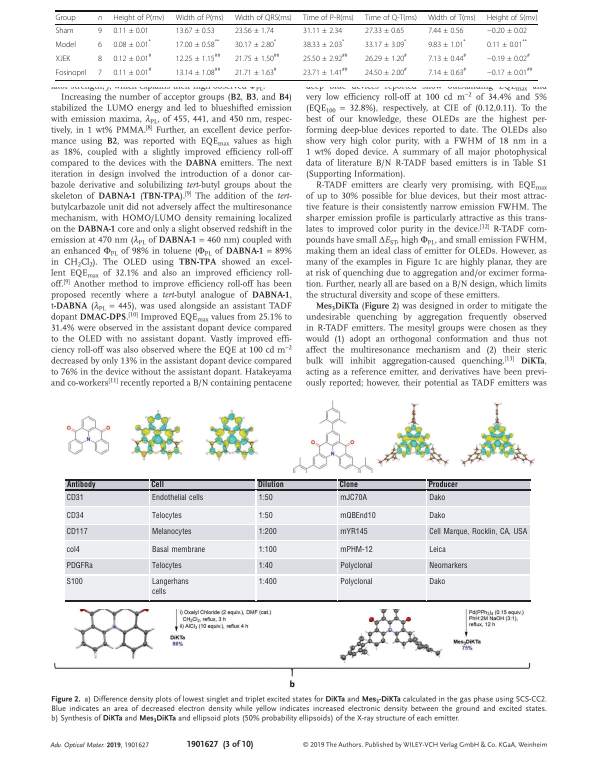borderless: (65, 478, 531, 600), (55, 9, 538, 80)
cell: (428, 527, 528, 537), (150, 577, 189, 597), (234, 13, 293, 22), (486, 66, 533, 77), (175, 52, 221, 63), (234, 52, 280, 63), (302, 52, 348, 63), (175, 66, 221, 77), (302, 66, 348, 77), (150, 545, 206, 554), (175, 38, 220, 49), (486, 52, 531, 63), (150, 493, 204, 502), (364, 13, 418, 22), (364, 52, 408, 63), (234, 66, 278, 77), (364, 66, 408, 77), (112, 13, 165, 22), (302, 13, 355, 22), (234, 38, 277, 49), (302, 38, 345, 49), (364, 38, 407, 49), (486, 13, 538, 22), (486, 38, 528, 49), (427, 13, 477, 22), (175, 13, 224, 22), (112, 38, 152, 49), (427, 38, 467, 49), (112, 52, 152, 63), (427, 52, 467, 63), (112, 66, 152, 77), (427, 66, 467, 77), (150, 527, 192, 537), (428, 561, 468, 571), (486, 26, 528, 35), (175, 26, 216, 35), (234, 26, 275, 35), (302, 26, 343, 35), (364, 26, 405, 35), (112, 26, 150, 35), (339, 561, 373, 571), (339, 577, 373, 587), (339, 511, 376, 520), (427, 26, 464, 35), (150, 561, 182, 571), (65, 480, 96, 490), (427, 480, 458, 490), (339, 545, 373, 554), (339, 527, 368, 537), (150, 511, 182, 520), (55, 68, 87, 77), (256, 480, 284, 490), (65, 561, 93, 571), (339, 493, 367, 502), (65, 527, 88, 537), (338, 480, 358, 490), (257, 527, 277, 537), (257, 577, 277, 587), (55, 40, 77, 49), (55, 13, 76, 22), (257, 545, 277, 554), (65, 577, 83, 587), (428, 577, 446, 587), (65, 493, 84, 502), (65, 511, 84, 520), (55, 26, 74, 35), (428, 493, 446, 502), (428, 511, 446, 520), (428, 545, 446, 554), (257, 561, 273, 571), (257, 493, 273, 502), (257, 511, 273, 520), (55, 54, 71, 63), (150, 480, 164, 490), (65, 545, 80, 554), (97, 26, 103, 35), (97, 40, 103, 49), (97, 54, 103, 63), (97, 68, 103, 77), (97, 15, 103, 21)
